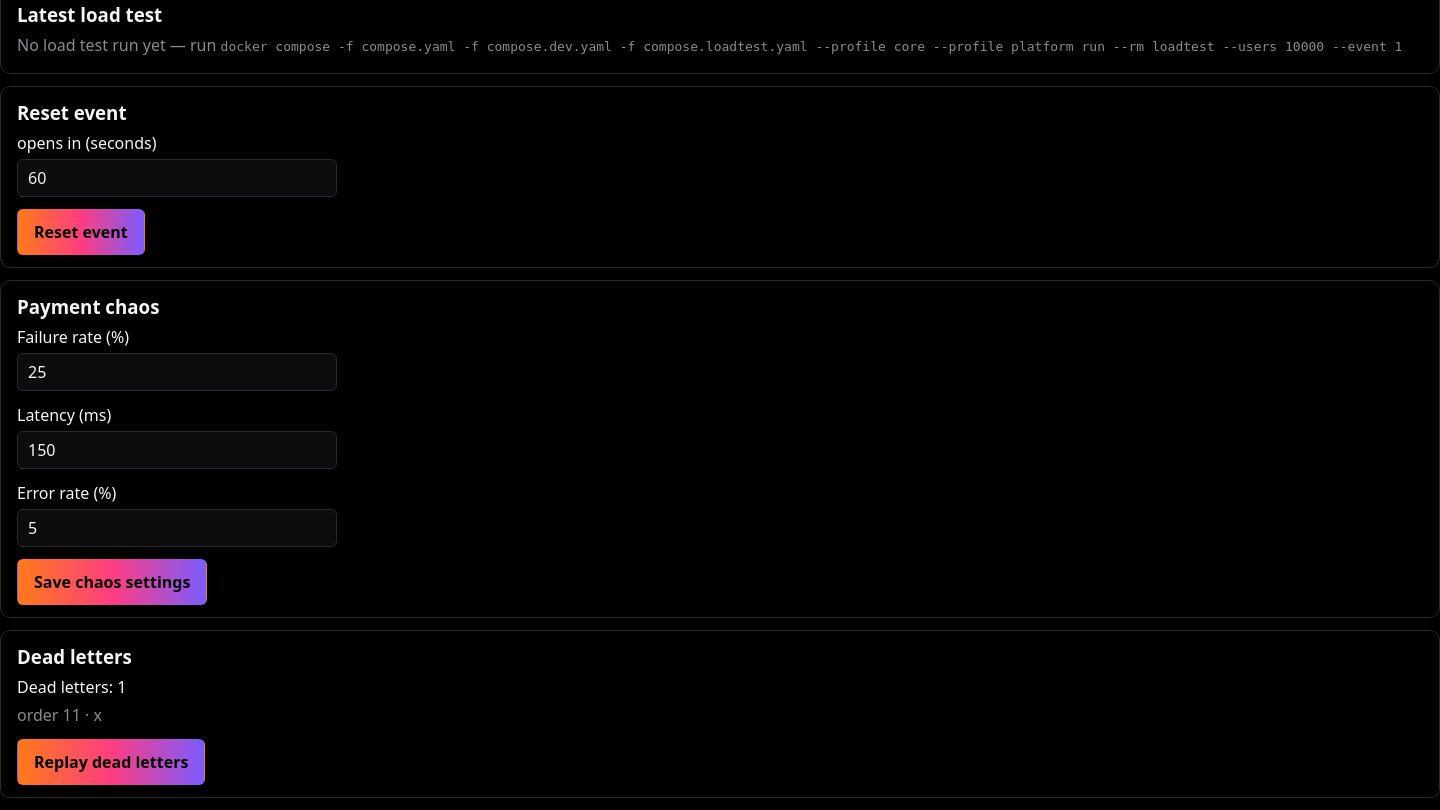
Scenario: OpsPage › shows the problem detail when a replay fails
(page scrolled)
Click the button "Replay dead letters" at (111, 762), box top-left (17, 739), bottom-right (205, 785)
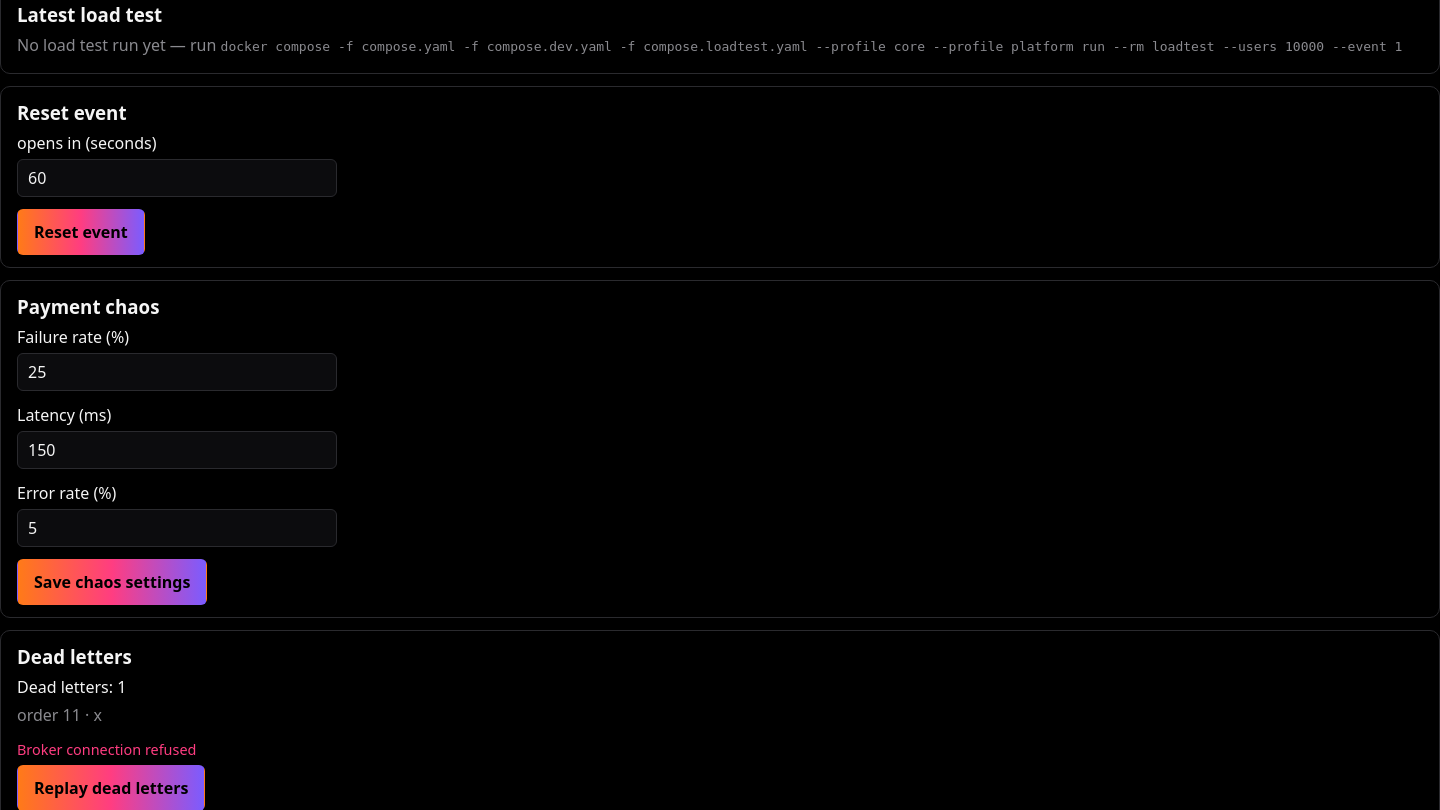
Check: the text "Broker connection refused" is shown, box top-left (17, 740), bottom-right (196, 759)
